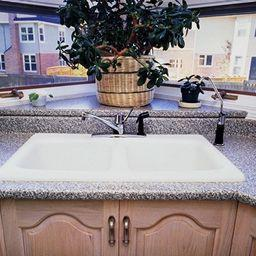Lavaplatos: (5, 116, 254, 185)
